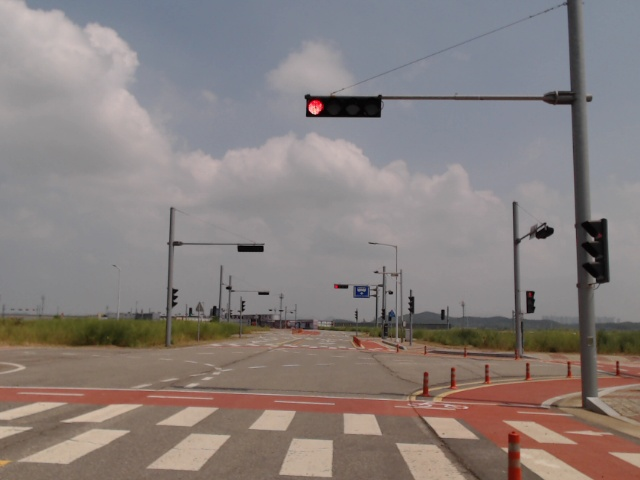red_4: (307, 95, 382, 119), (334, 284, 348, 289)
